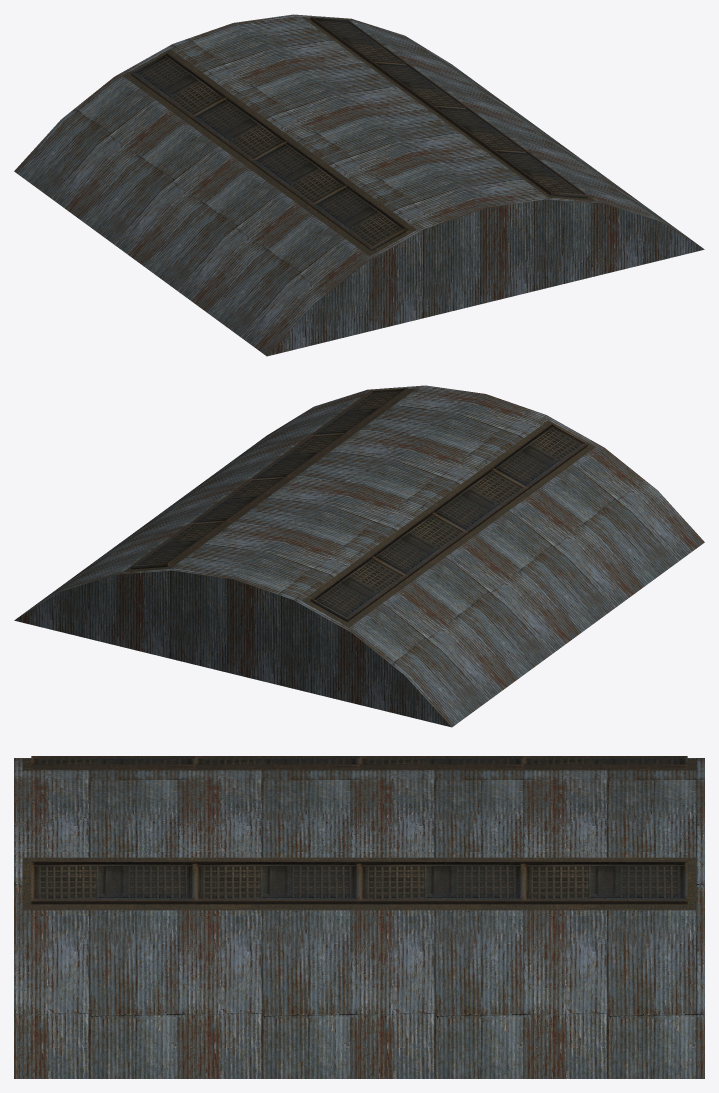
File: warehouse_hs_1_roof_2.obj
3 views of the same model, one above another, from view 1: azimuth 30°, elevation 25°; view 2: azimuth 150°, elevation 25°; view 3: azimuth 270°, elevation 25° (orthographic). The views are drawn at different scales.
Visible parts, largest first — view 1: warehouse_hs_1_roof_2; view 2: warehouse_hs_1_roof_2; view 3: warehouse_hs_1_roof_2.
Part boxes in pixels (bbox=[...]): warehouse_hs_1_roof_2: bbox=[14, 14, 704, 356]; warehouse_hs_1_roof_2: bbox=[14, 385, 704, 727]; warehouse_hs_1_roof_2: bbox=[14, 756, 704, 1078].
Size of the model in its own units: 8 by 1.66 by 8.
